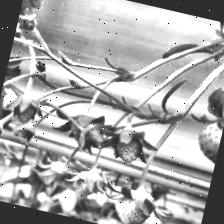Powdery Mildew Fruit: (109, 184, 159, 224), (72, 168, 106, 205)
